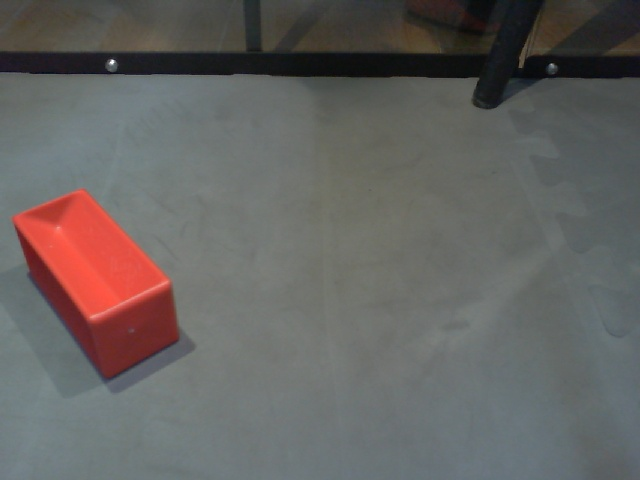RedSample: (10, 187, 180, 380)
